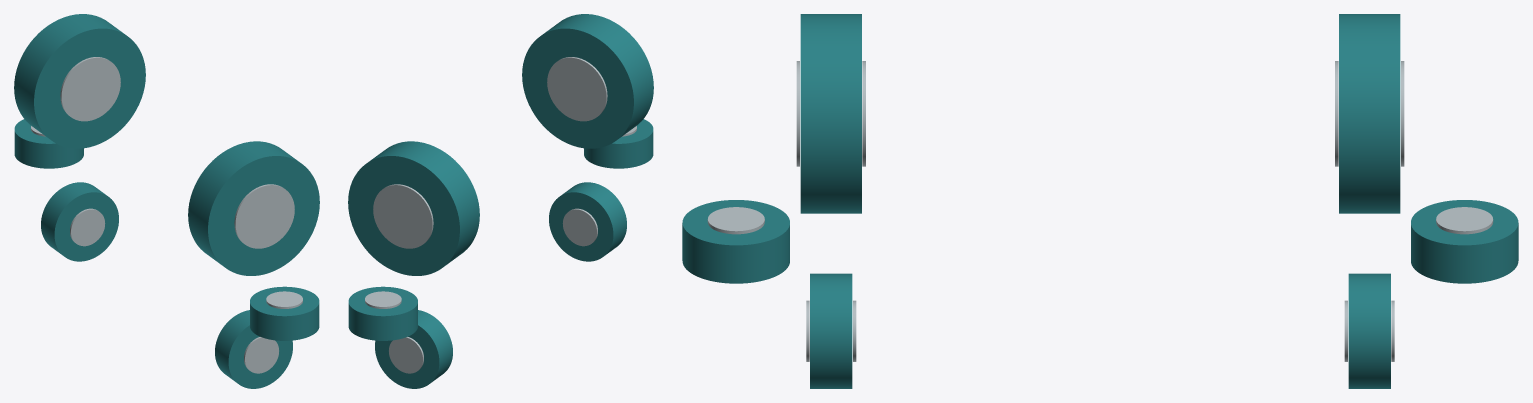
Rendered from SM_ExaWheelFit.fbx.
The picture shows the model from 3 angles, left to right: view 1: azimuth 30°, elevation 25°; view 2: azimuth 150°, elevation 25°; view 3: azimuth 270°, elevation 25°; orthographic projection. The views are drawn at different scales.
Visible parts, largest first — view 1: SM_ExaWheelFit; view 2: SM_ExaWheelFit; view 3: SM_ExaWheelFit.
Part boxes in pixels (<box>): SM_ExaWheelFit: <box>14,14,319,388</box>; SM_ExaWheelFit: <box>348,14,653,388</box>; SM_ExaWheelFit: <box>682,14,1518,388</box>.
Bounding box in the file's own units: 52 × 217 × 103.
